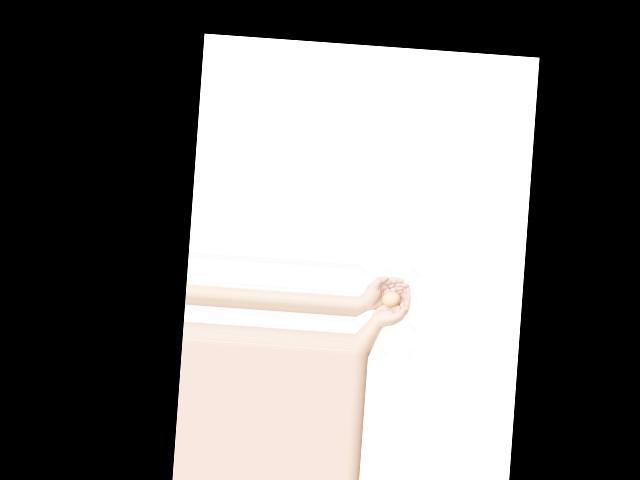egg: (381, 291, 399, 307)
